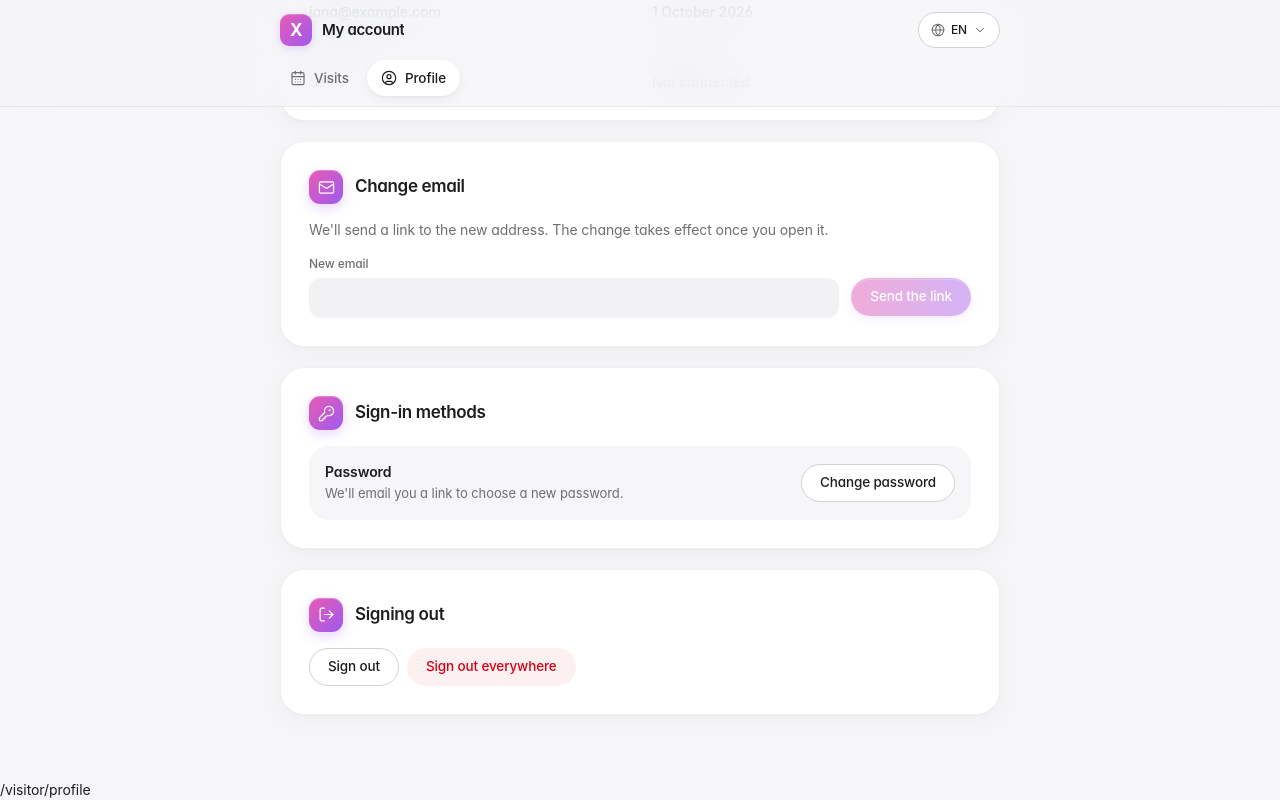
Test: signs out everywhere after asking
(page scrolled)
Click the button "Sign out everywhere".
click(491, 667)  # box 407,648 -> 576,686
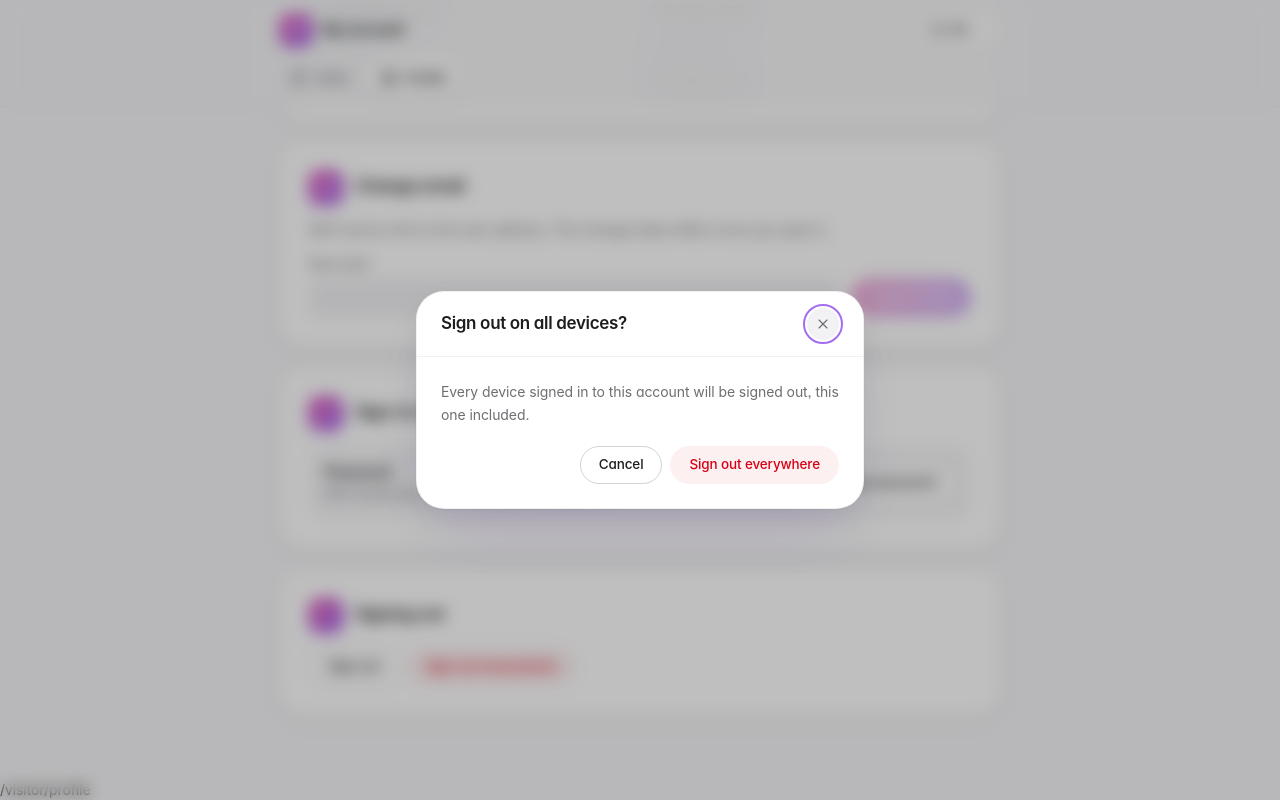
Click the button "Sign out everywhere".
click(755, 465)  # box 670,446 -> 839,484
(page scrolled)
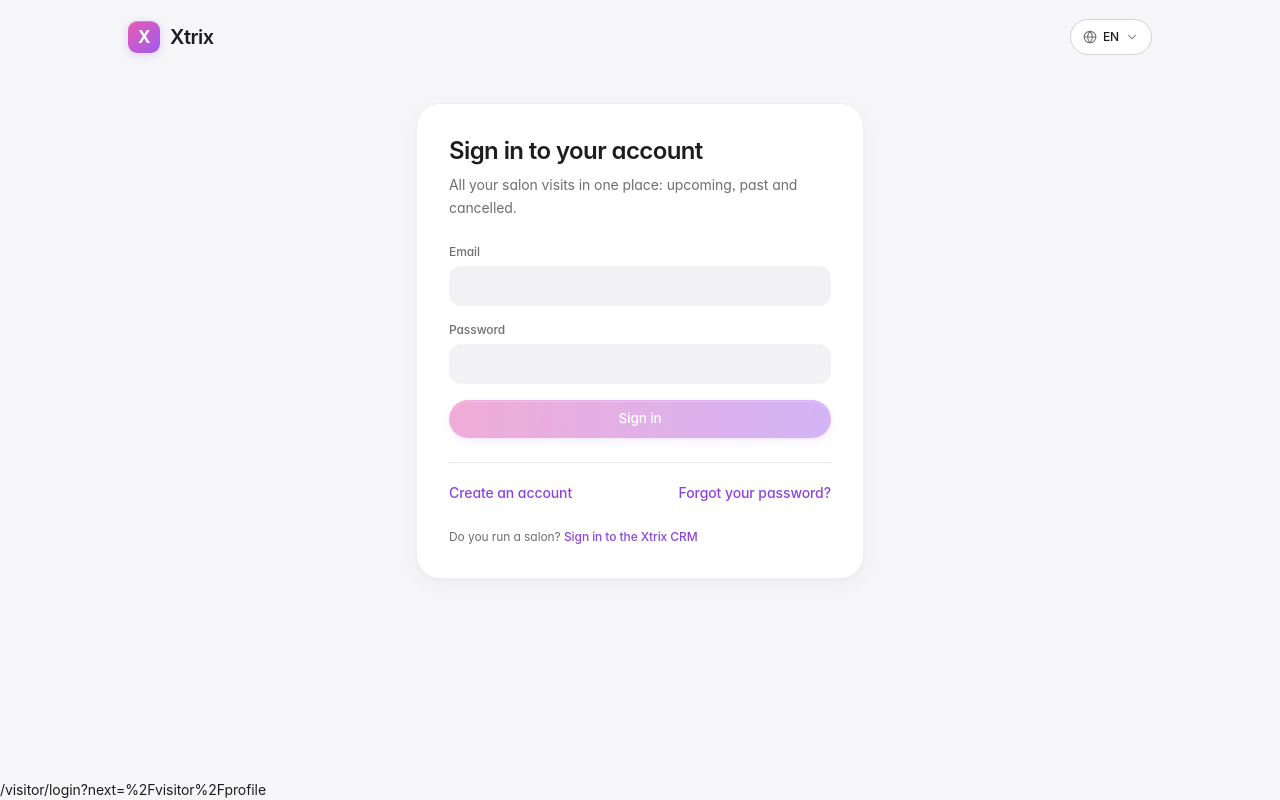
Now the text with test id "location" shows "/visitor/login", box 0,781 -> 81,798
